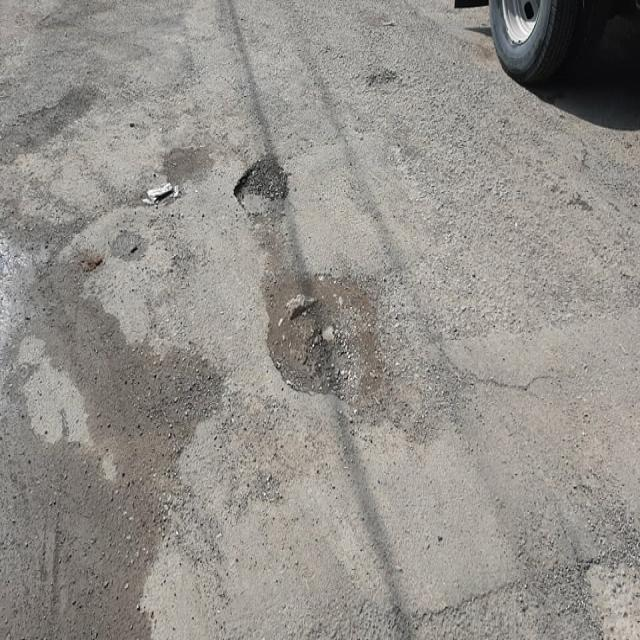Pothole: (220, 109, 443, 436)
